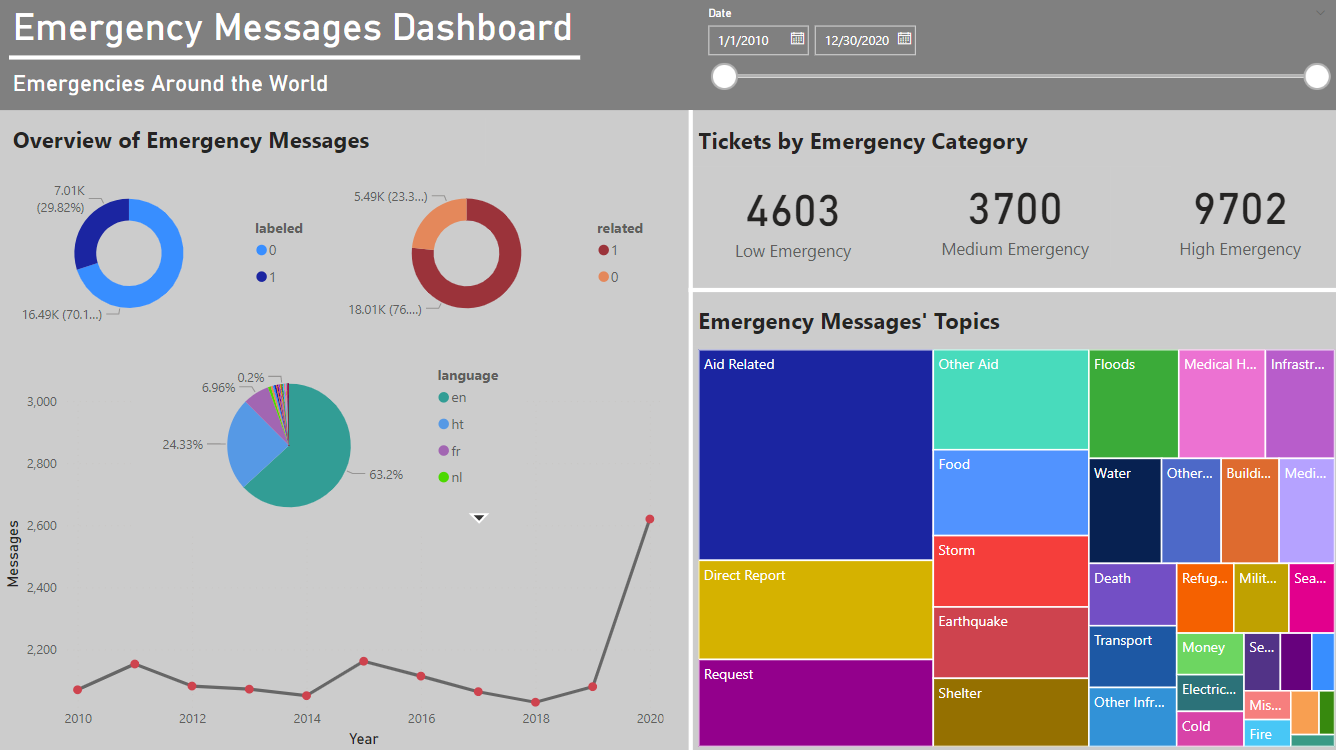

The page's visual inventory and layout, read from the dashboard file:
{"tool":"powerbi","page":{"name":"Page 1","canvas":[1280,720],"ordinal":0},"visuals":[{"type":"shape","box":[0,0,1280,720],"z":0},{"type":"shape","box":[0,0,1280,108.3],"z":1000},{"type":"textbox","title":"Emergency Messages Dashboard","box":[10,8.3,563.3,75],"z":2000},{"type":"lineChart","title":"Messages by Year","fields":{"Category":["HistoricalMart.date.Variation.Date Hierarchy.Year","HistoricalMart.date.Variation.Date Hierarchy.Quarter","HistoricalMart.date.Variation.Date Hierarchy.Month","HistoricalMart.date.Variation.Date Hierarchy.Day"],"Y":["CountNonNull(HistoricalMart.ID)"]},"box":[1.7,371.7,638.3,348.3],"z":3000},{"type":"pieChart","fields":{"Category":["HistoricalMart.language"],"Y":["CountNonNull(HistoricalMart.ID)"]},"box":[132,346,370,164],"z":4000},{"type":"donutChart","fields":{"Category":["HistoricalMart.related"],"Y":["CountNonNull(HistoricalMart.ID)"]},"box":[316.7,171.9,323.3,146.7],"z":5000},{"type":"donutChart","fields":{"Y":["CountNonNull(HistoricalMart.ID)"],"Category":["HistoricalMart.labeled"]},"box":[0,171.9,316.7,146.7],"z":6000},{"type":"slicer","fields":{"Values":["HistoricalMart.date"]},"box":[664,4,614,98],"z":7000},{"type":"shape","box":[625,109,70,611],"z":8000},{"type":"shape","box":[658.3,250,620,60],"z":9000},{"type":"card","fields":{"Values":["CountNonNull(HistoricalMart.ID)"]},"box":[663.3,160.2,190,100],"z":10000},{"type":"card","fields":{"Values":["CountNonNull(HistoricalMart.ID)"]},"box":[878.3,158.6,181.7,100],"z":11000},{"type":"card","fields":{"Values":["CountNonNull(HistoricalMart.ID)"]},"box":[1088.3,158.6,190,100],"z":12000},{"type":"treemap","fields":{"Values":["Sum(HistoricalMart.aid_centers)","Sum(HistoricalMart.aid_related)","Sum(HistoricalMart.buildings)","Sum(HistoricalMart.clothing)","Sum(HistoricalMart.cold)","Sum(HistoricalMart.death)","Sum(HistoricalMart.direct_report)","Sum(HistoricalMart.earthquake)","Sum(HistoricalMart.electricity)","Sum(HistoricalMart.floods)","Sum(HistoricalMart.fire)","Sum(HistoricalMart.food)"]},"box":[663.3,331.7,616.7,388.3],"z":13000},{"type":"shape","box":[12,28,544,60],"z":14000},{"type":"textbox","title":"Emergencies Around the World","box":[10,70,564,46],"z":15000},{"type":"textbox","box":[10,115.8,455,45.8],"z":16000},{"type":"textbox","box":[663.3,116.7,455,45],"z":17000},{"type":"textbox","box":[663.3,288.3,455,45],"z":17001}]}

Visuals, with their boxes in screenshot pixels (x1, y1, x2, y2), scaled from the page's 1280x720 canvas onto the 1336x750 screenshot:
shape: bbox=(0, 0, 1335, 749)
shape: bbox=(0, 0, 1335, 113)
"Emergency Messages Dashboard" textbox: bbox=(10, 9, 598, 87)
"Messages by Year" lineChart: bbox=(2, 387, 668, 749)
pieChart - HistoricalMart.language x CountNonNull(HistoricalMart.ID): bbox=(138, 360, 524, 531)
donutChart - HistoricalMart.related x CountNonNull(HistoricalMart.ID): bbox=(331, 179, 668, 332)
donutChart - CountNonNull(HistoricalMart.ID) x HistoricalMart.labeled: bbox=(0, 179, 331, 332)
slicer - HistoricalMart.date: bbox=(693, 4, 1334, 106)
shape: bbox=(652, 114, 725, 749)
shape: bbox=(687, 260, 1334, 323)
card - CountNonNull(HistoricalMart.ID): bbox=(692, 167, 891, 271)
card - CountNonNull(HistoricalMart.ID): bbox=(917, 165, 1106, 269)
card - CountNonNull(HistoricalMart.ID): bbox=(1136, 165, 1334, 269)
treemap - Sum(HistoricalMart.aid_centers) x Sum(HistoricalMart.aid_related): bbox=(692, 346, 1335, 749)
shape: bbox=(13, 29, 580, 92)
"Emergencies Around the World" textbox: bbox=(10, 73, 599, 121)
textbox: bbox=(10, 121, 485, 168)
textbox: bbox=(692, 122, 1167, 168)
textbox: bbox=(692, 300, 1167, 347)
